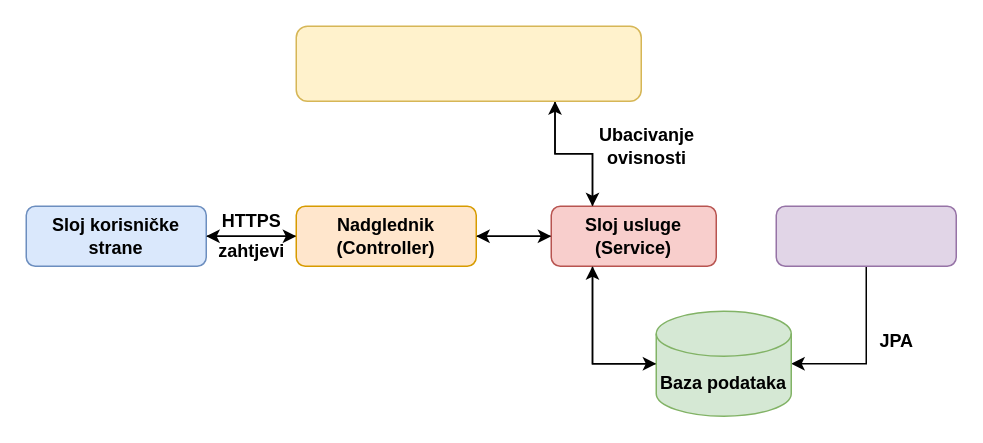
Some shapes in this 983 by 443 pixel diagram are drawn without their labels. Each missing label, with the centre of its shape:
Model: the point at 865,235
Repozitorij klasa koja nasljeđuje CRUD service: the point at 468,63
